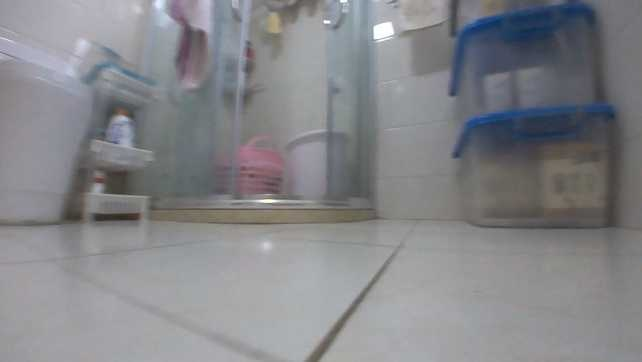toilet: (0, 34, 94, 224)
